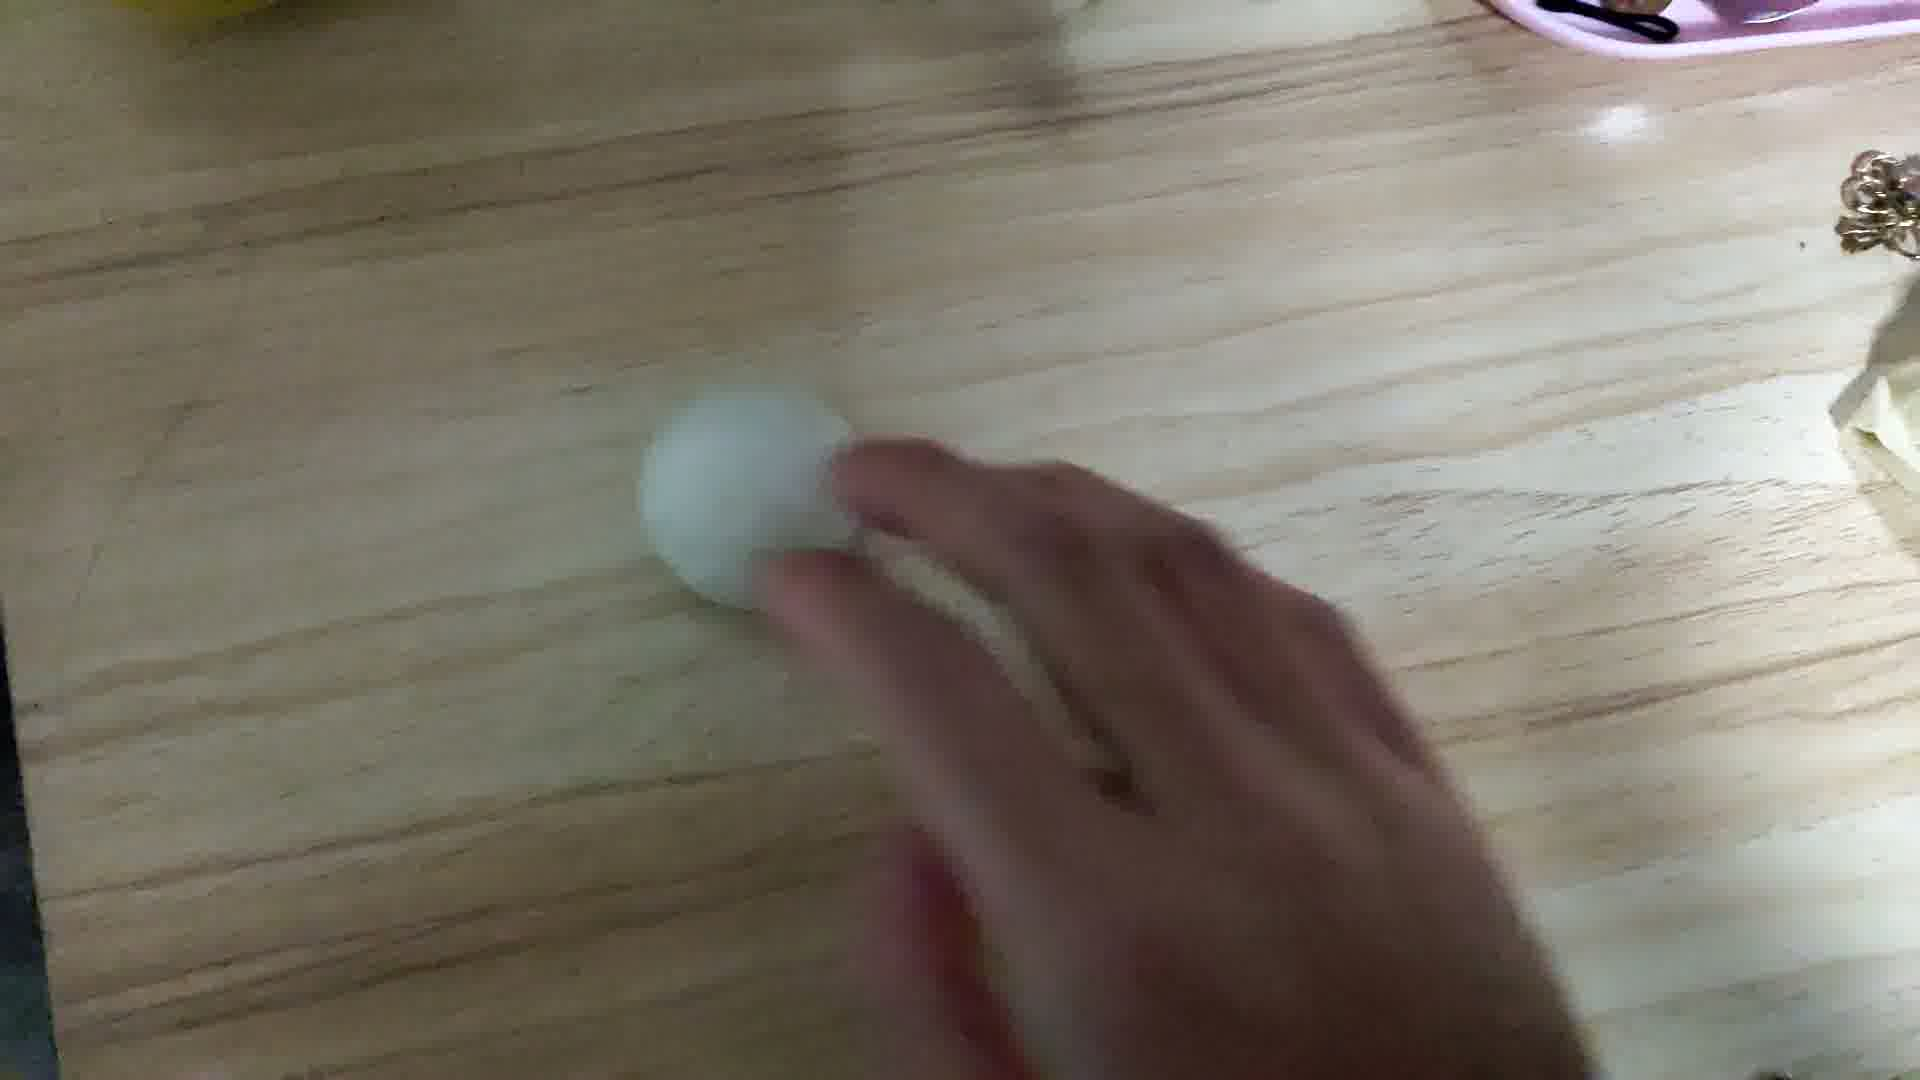Ball: (638, 377, 876, 611)
